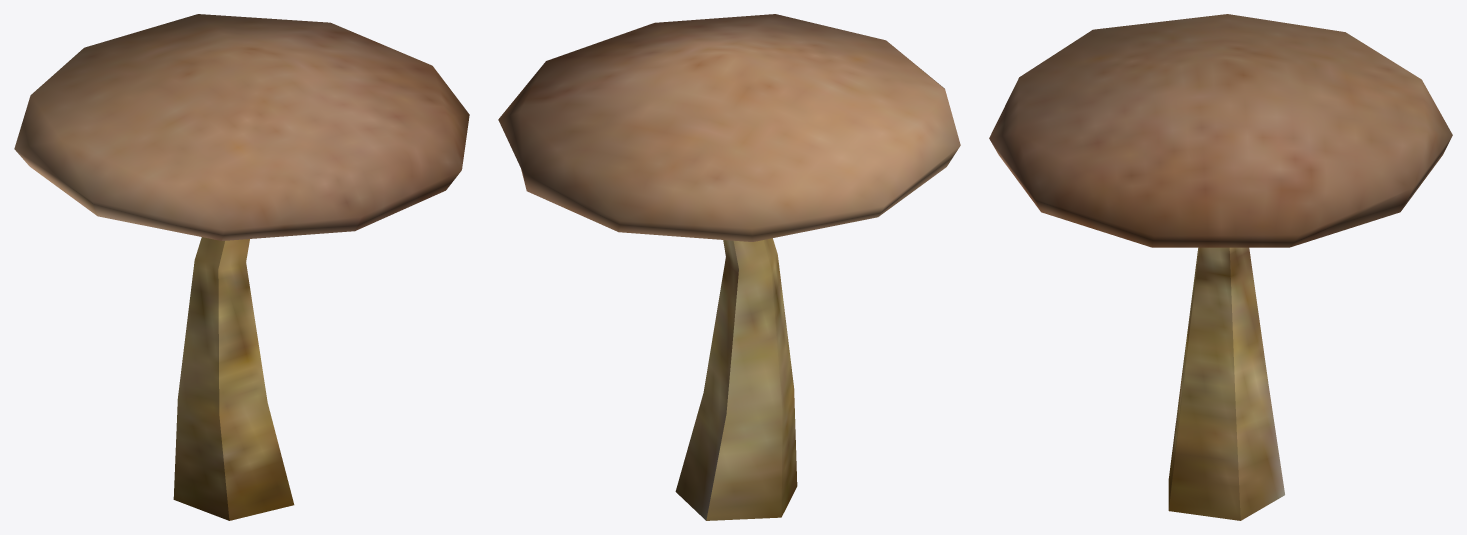
File: MS_Mushroom_1.fbx
The picture shows the model from 3 angles, left to right: view 1: azimuth 30°, elevation 25°; view 2: azimuth 150°, elevation 25°; view 3: azimuth 270°, elevation 25°; orthographic projection.
Visible parts, largest first — view 1: MSH_Hattu; view 2: MSH_Hattu; view 3: MSH_Hattu.
Part boxes in pixels (x1,y1,x2,y2): MSH_Hattu: (14,14,469,520); MSH_Hattu: (498,14,960,520); MSH_Hattu: (989,14,1452,520).
Bounding box in the file's own units: 23.35 × 25.36 × 24.2.
